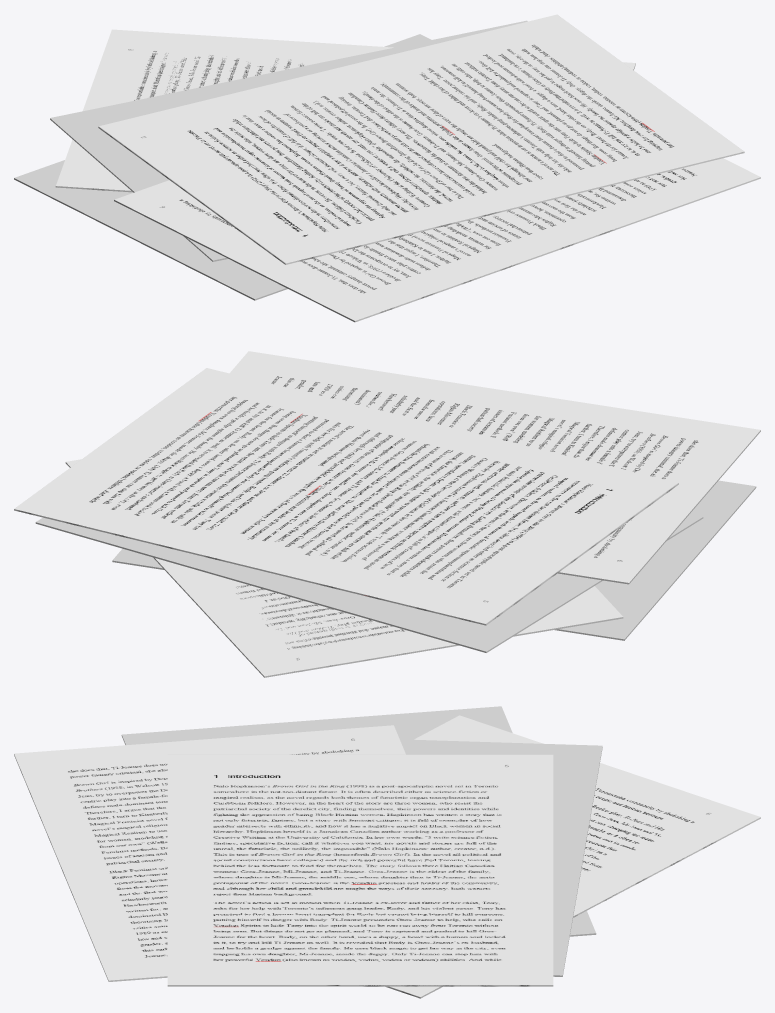
File: paper_stack.fbx
3 renders of one model, top to bottom at view 1: azimuth 30°, elevation 25°; view 2: azimuth 150°, elevation 25°; view 3: azimuth 270°, elevation 25°, orthographic. The views are drawn at different scales.
Visible parts, largest first — view 1: paper_top, paper_middle, paper_bottom, paper_white.001, paper_white; view 2: paper_top, paper_middle, paper_bottom, paper_white.001, paper_white; view 3: paper_top, paper_middle, paper_bottom, paper_white.001, paper_white.
Boxes of the visible parts, bbox=[...] form: paper_top: bbox=[98, 14, 744, 264]; paper_middle: bbox=[114, 158, 760, 322]; paper_bottom: bbox=[55, 29, 635, 192]; paper_white.001: bbox=[50, 20, 527, 261]; paper_white: bbox=[14, 34, 431, 300]; paper_top: bbox=[14, 368, 678, 625]; paper_middle: bbox=[229, 351, 760, 584]; paper_bottom: bbox=[65, 459, 623, 677]; paper_white.001: bbox=[35, 513, 703, 652]; paper_white: bbox=[112, 480, 756, 640]; paper_top: bbox=[167, 754, 553, 986]; paper_middle: bbox=[14, 725, 405, 981]; paper_bottom: bbox=[385, 715, 760, 998]; paper_white.001: bbox=[217, 733, 602, 976]; paper_white: bbox=[121, 706, 596, 936].
Size of the model in its own units: 37.7 by 0.49 by 40.67.
